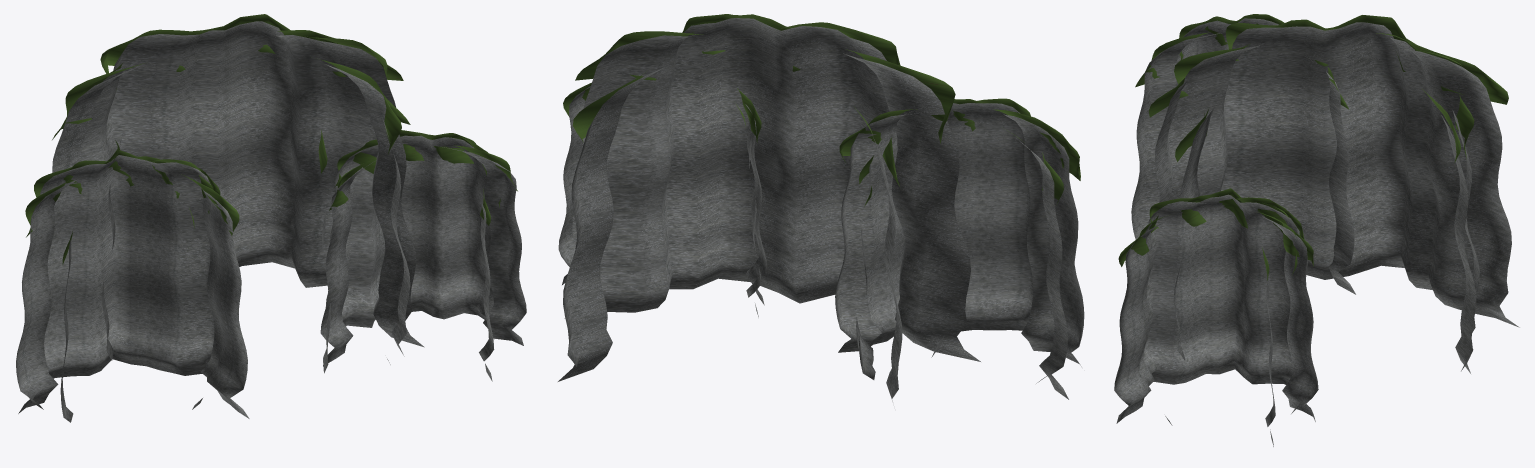
Rendered from karst-island-04.glb.
The picture shows the model from 3 angles, left to right: view 1: azimuth 30°, elevation 25°; view 2: azimuth 150°, elevation 25°; view 3: azimuth 270°, elevation 25°; orthographic projection. The views are drawn at different scales.
Parts seen in each view (by area): view 1: Cliff_LOD0, Canopy_LOD0; view 2: Cliff_LOD0, Canopy_LOD0; view 3: Cliff_LOD0, Canopy_LOD0.
Part boxes in pixels (left/top/right/bottom): Cliff_LOD0: left=16, top=21, right=526, bottom=422; Canopy_LOD0: left=25, top=14, right=517, bottom=264; Cliff_LOD0: left=558, top=18, right=1084, bottom=401; Canopy_LOD0: left=563, top=14, right=1080, bottom=206; Cliff_LOD0: left=1114, top=18, right=1519, bottom=446; Canopy_LOD0: left=1118, top=14, right=1508, bottom=280.
Size of what is drawn, in the model's own units: 438 by 262 by 328.
Materials: 2 (2 with a texture image).
